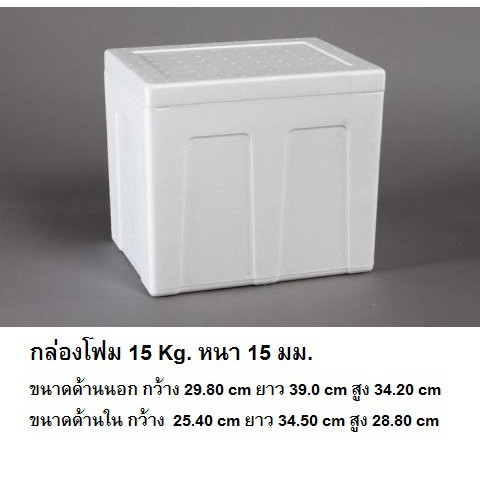Foam Box: (97, 33, 389, 300)
